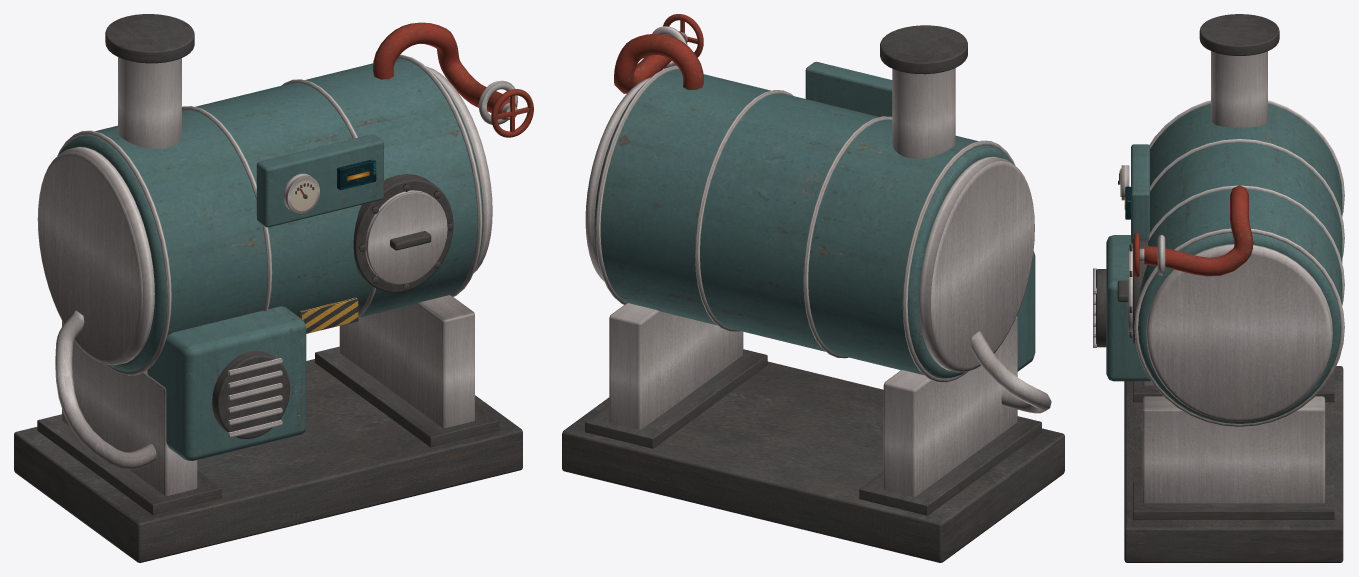
The model's file is SM_FacilityRooms_Boiler.fbx.
3 renders of one model, left to right at view 1: azimuth 30°, elevation 25°; view 2: azimuth 150°, elevation 25°; view 3: azimuth 270°, elevation 25°, orthographic. The views are drawn at different scales.
Visible parts, largest first — view 1: SM_FacilityRooms_Boiler; view 2: SM_FacilityRooms_Boiler; view 3: SM_FacilityRooms_Boiler.
Part boxes in pixels (box(x1,y1,x2,y2)): SM_FacilityRooms_Boiler: box(14, 14, 533, 562); SM_FacilityRooms_Boiler: box(562, 14, 1064, 562); SM_FacilityRooms_Boiler: box(1093, 14, 1344, 562).
Size of what is drawn, in the model's own units: 220 by 130 by 230.
